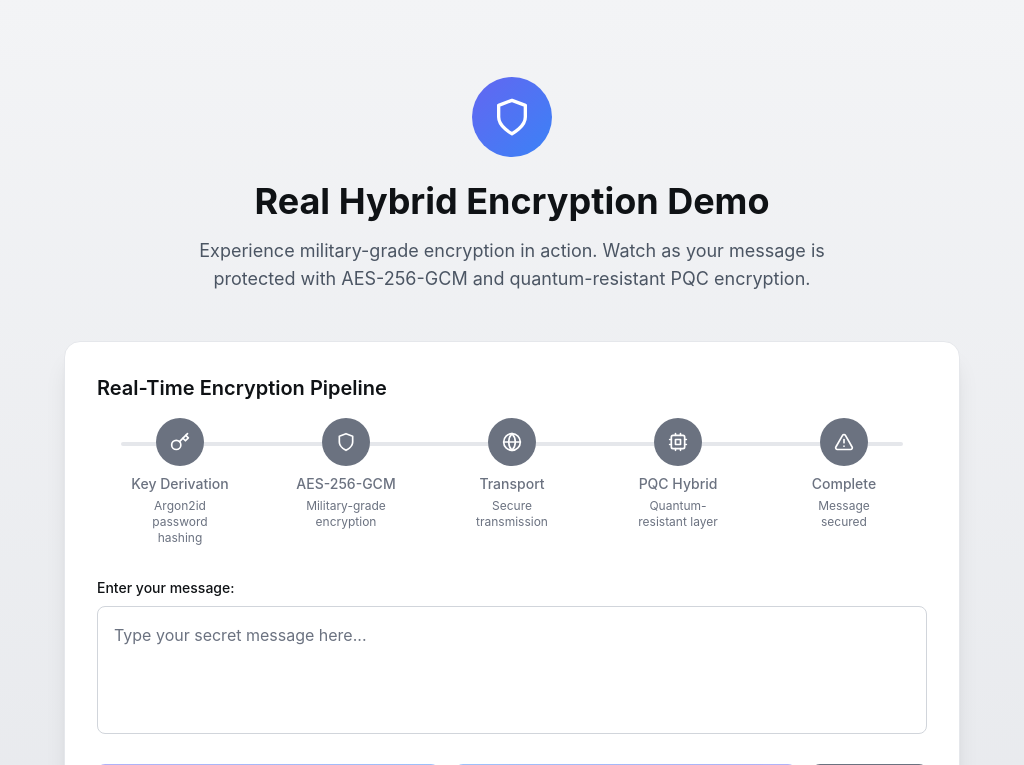
Test: EncryptionDemo Component › enables encrypt button when message is entered
Type "Test message" into the text box with placeholder "Type your secret message here..." at (512, 670), box [97,606,927,734]
(page scrolled)
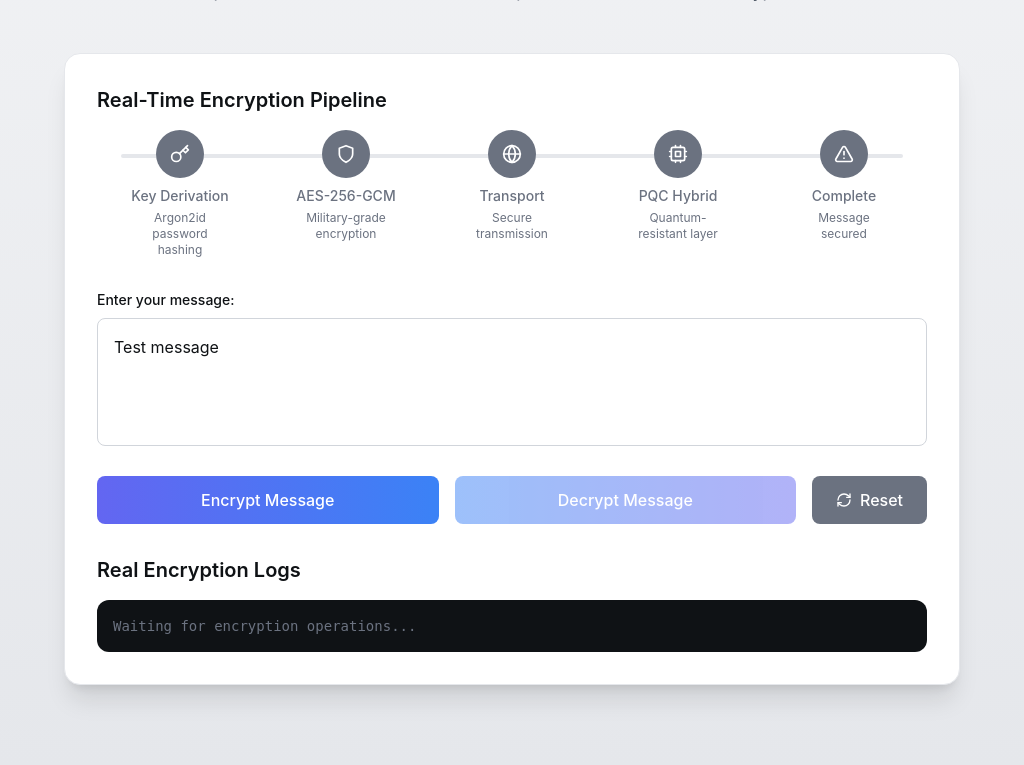
expect the button "Encrypt Message" is enabled: met, box [97,476,438,524]
